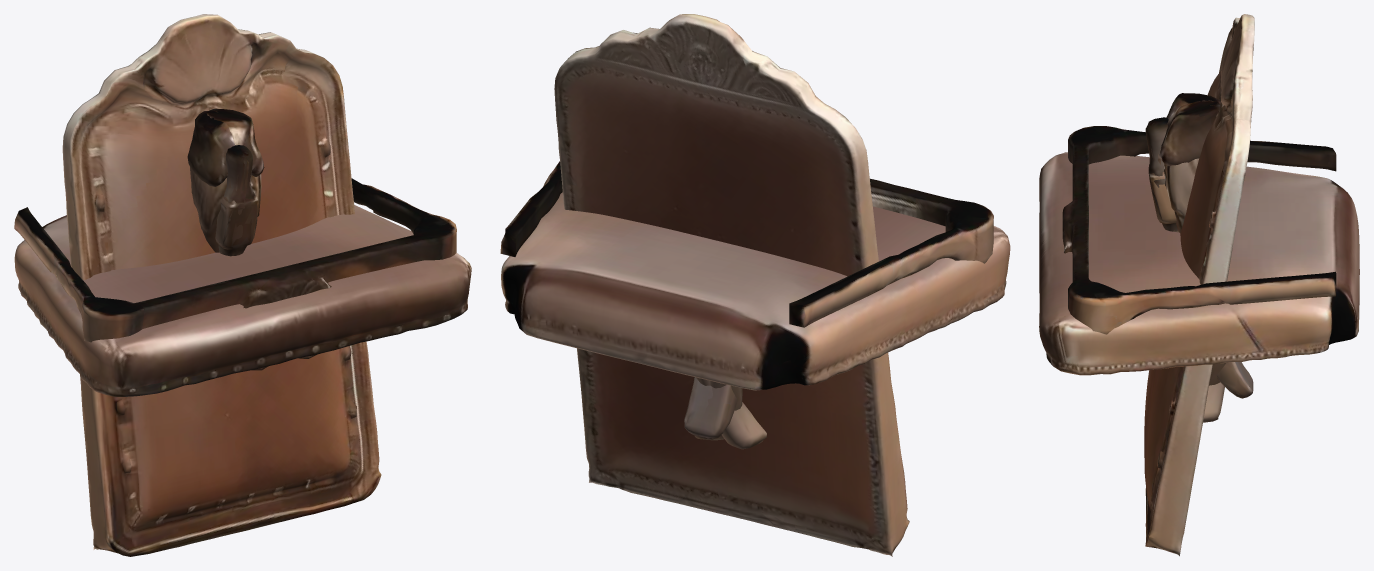
3 views of the same model, side by side, from view 1: azimuth 30°, elevation 25°; view 2: azimuth 150°, elevation 25°; view 3: azimuth 270°, elevation 25° (orthographic). The views are drawn at different scales.
Visible parts, largest first — view 1: root.0.0, root.1, root.2, root.4, root.3, root.6, root.7; view 2: root.0.0, root.1, root.2, root.6, root.4, root.7; view 3: root.1, root.0.0, root.2, root.4, root.3, root.7, root.6.
Part boxes in pixels (<box>): root.0.0: <box>62,14,381,556</box>; root.1: <box>14,205,471,396</box>; root.2: <box>14,178,456,370</box>; root.4: <box>190,108,264,252</box>; root.3: <box>187,110,261,216</box>; root.6: <box>218,146,258,256</box>; root.7: <box>215,145,257,255</box>; root.0.0: <box>554,14,909,556</box>; root.1: <box>501,192,1010,390</box>; root.2: <box>500,161,993,327</box>; root.6: <box>693,377,737,438</box>; root.4: <box>696,377,766,449</box>; root.7: <box>684,377,730,439</box>; root.1: <box>1039,152,1359,375</box>; root.0.0: <box>1144,14,1254,556</box>; root.2: <box>1062,126,1336,334</box>; root.4: <box>1159,100,1225,385</box>; root.3: <box>1163,93,1224,422</box>; root.7: <box>1145,119,1253,398</box>; root.6: <box>1145,117,1253,398</box>.
Bounding box in the file's own units: 24658 × 30130 × 18629.
Materials: 1 (1 with a texture image).
